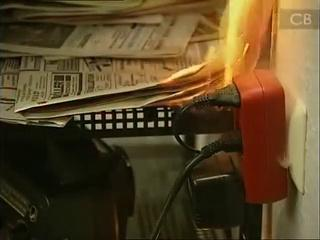Fire: (130, 1, 262, 119)
